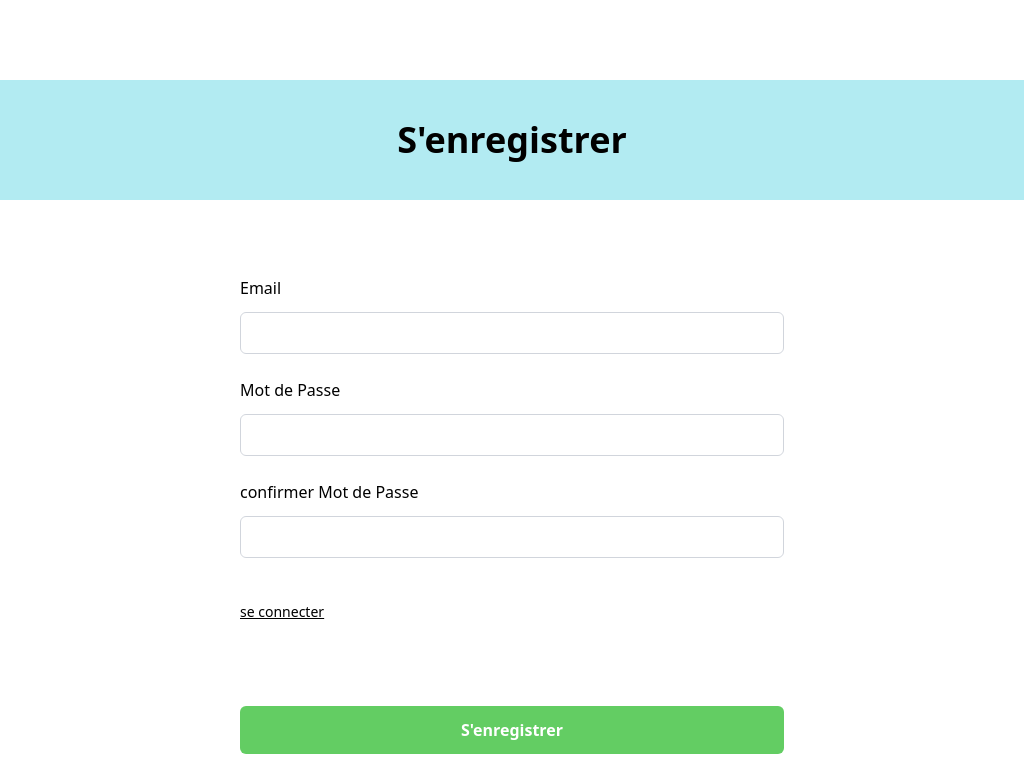
Test: should redirect to home › should say impossible to connect
This screenshot has width=1024, height=768.
Type "Dale.Rau@gmail.com" into the field named "email". click: x=512, y=333
box: [240,312,784,354]
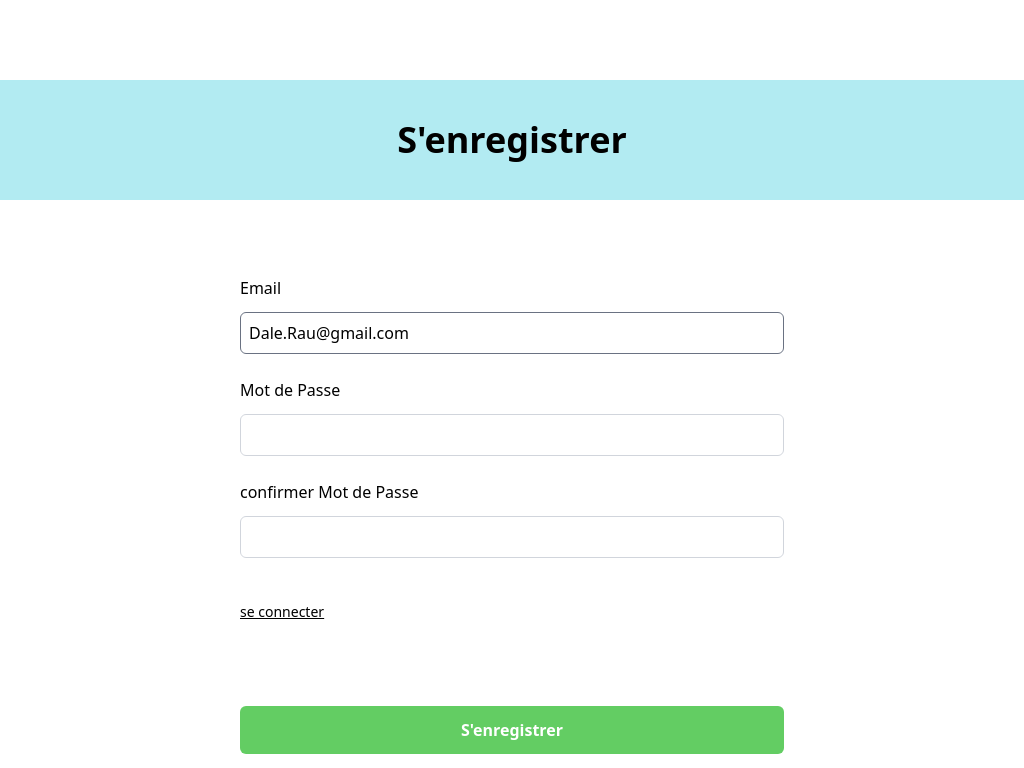
Type "Password123!" into the password field named "password". click: x=512, y=435
box: [240,414,784,456]
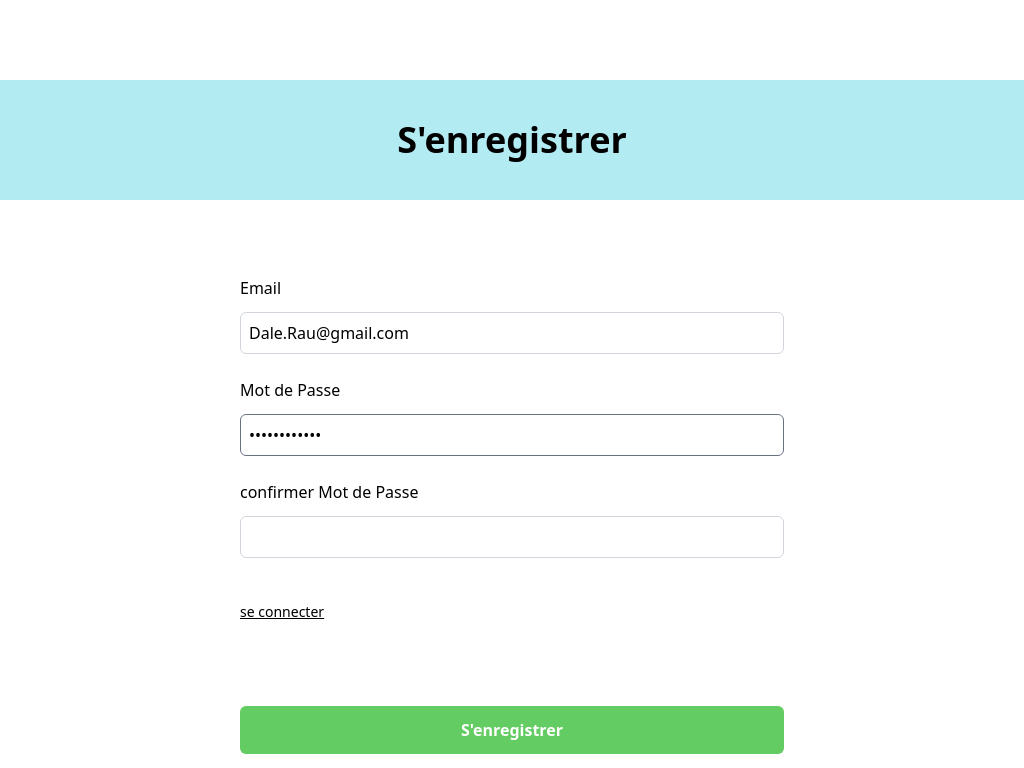
Type "Password123!" into the password field named "confirmPassword". click: x=512, y=537
box: [240,516,784,558]
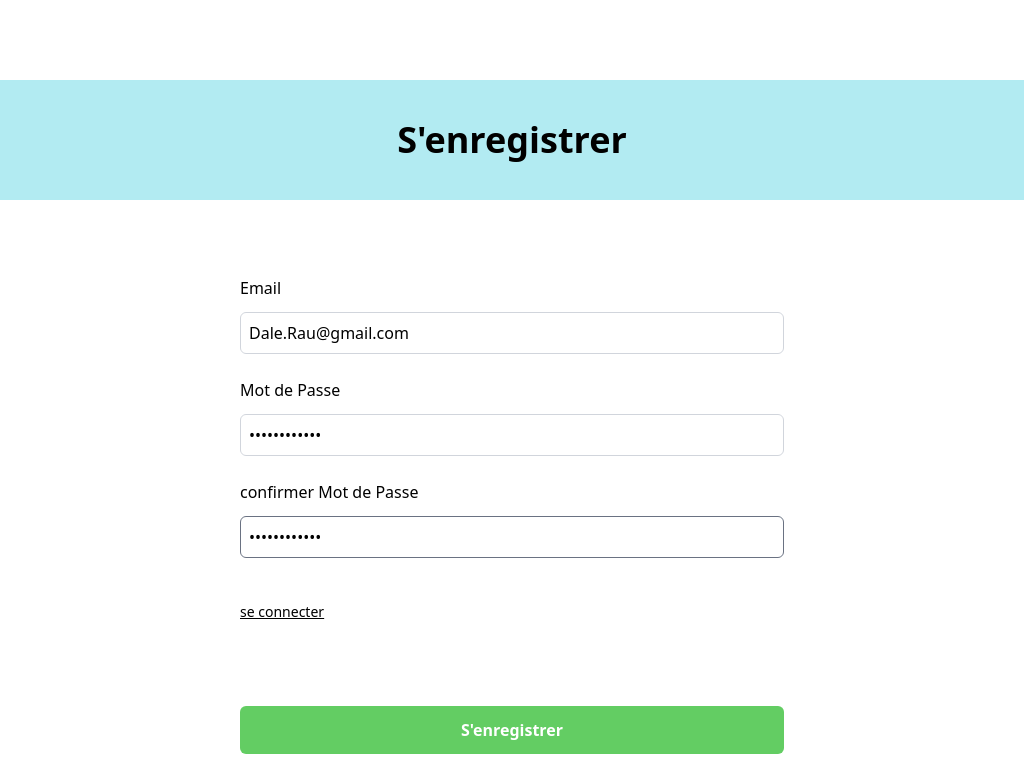
Click the submit button. click: x=512, y=730
box: [240,706,784,754]
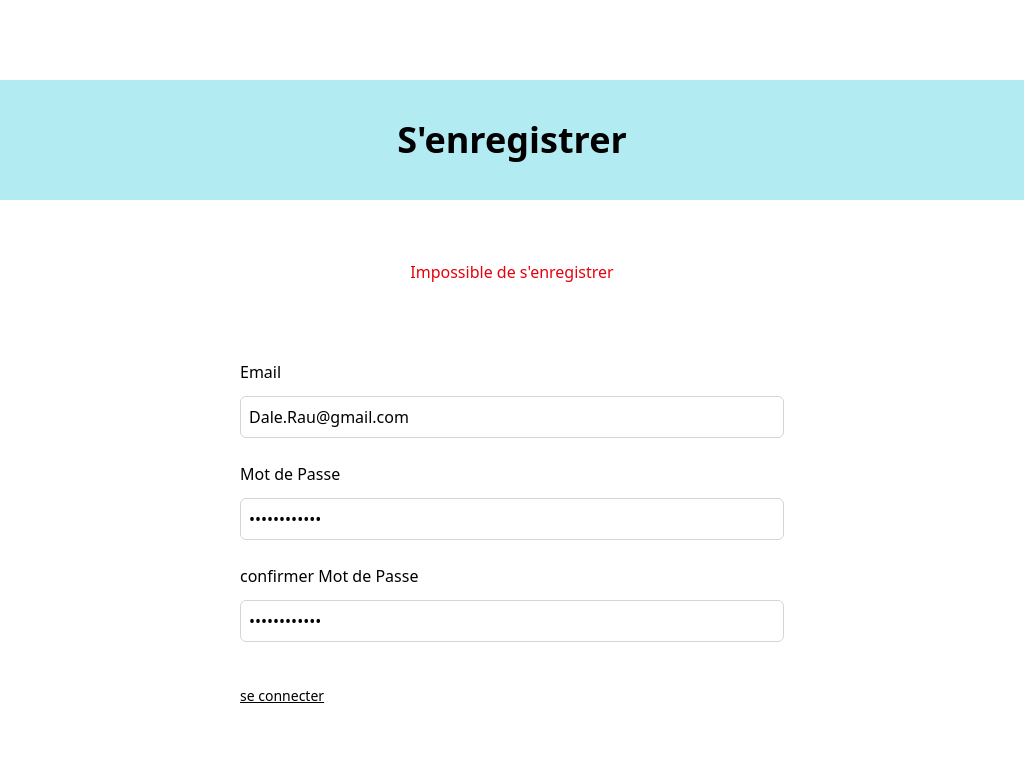
Check: the text "Impossible de s'enregistrer" is shown, box [410,260,614,284]
